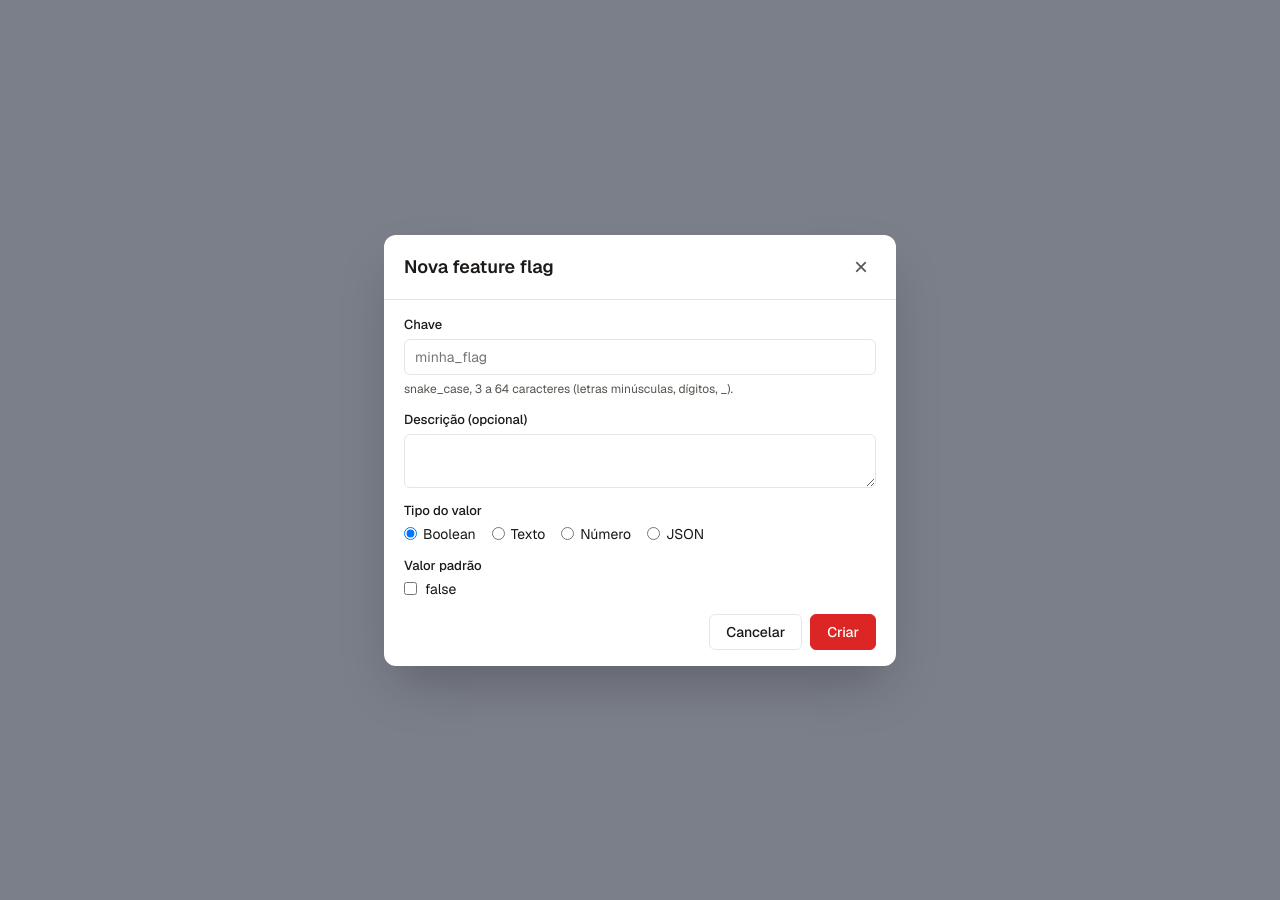
it: ModalCriarFlag (RF-ADM-FF-03) › valida formato snake_case da chave (mínimo 3 caracteres)
Type "ab" into the field labelled "Chave" at (640, 356), box 404,338 -> 876,374
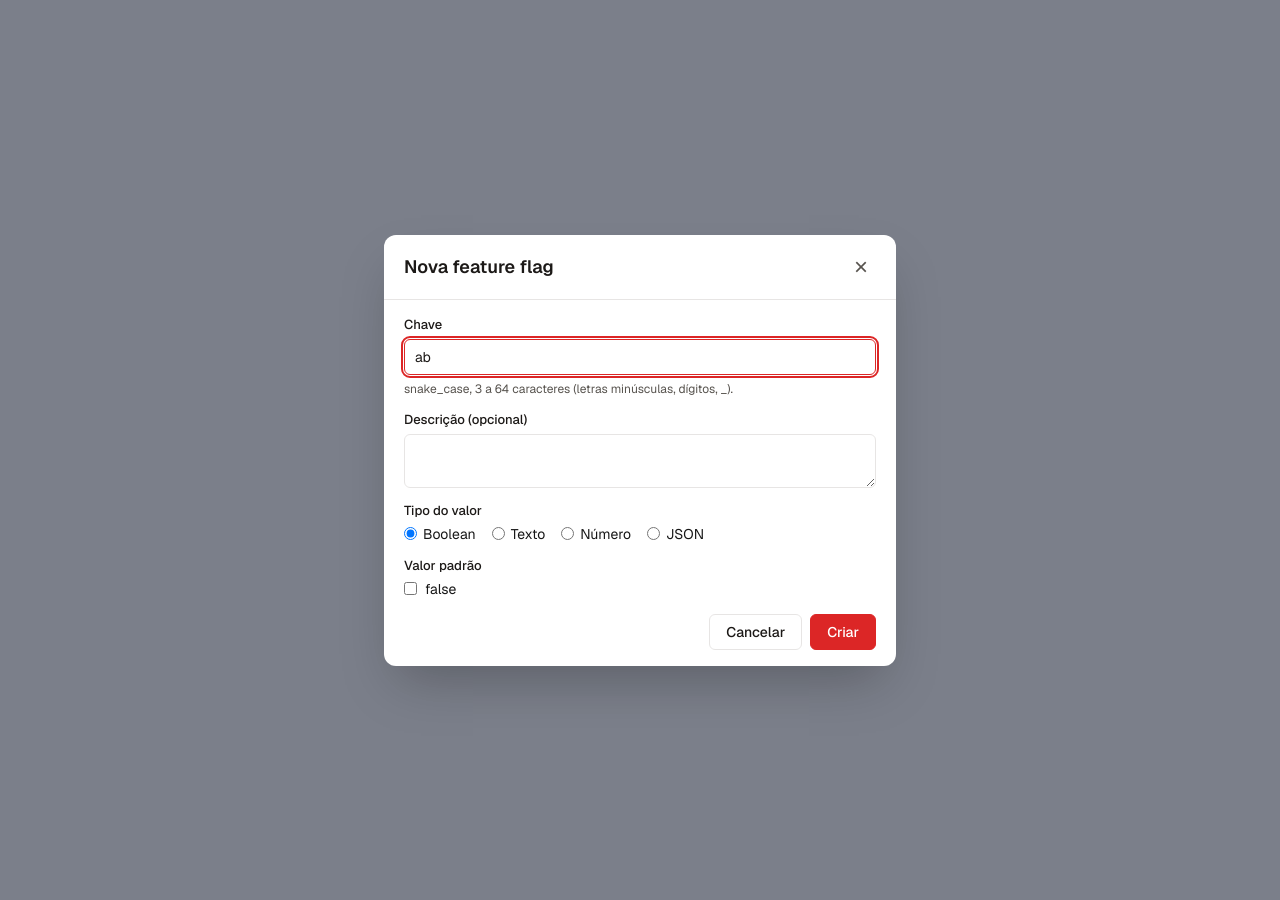
Click the button with test id "btn-criar-flag-submit" at (843, 632), box 810,614 -> 876,650
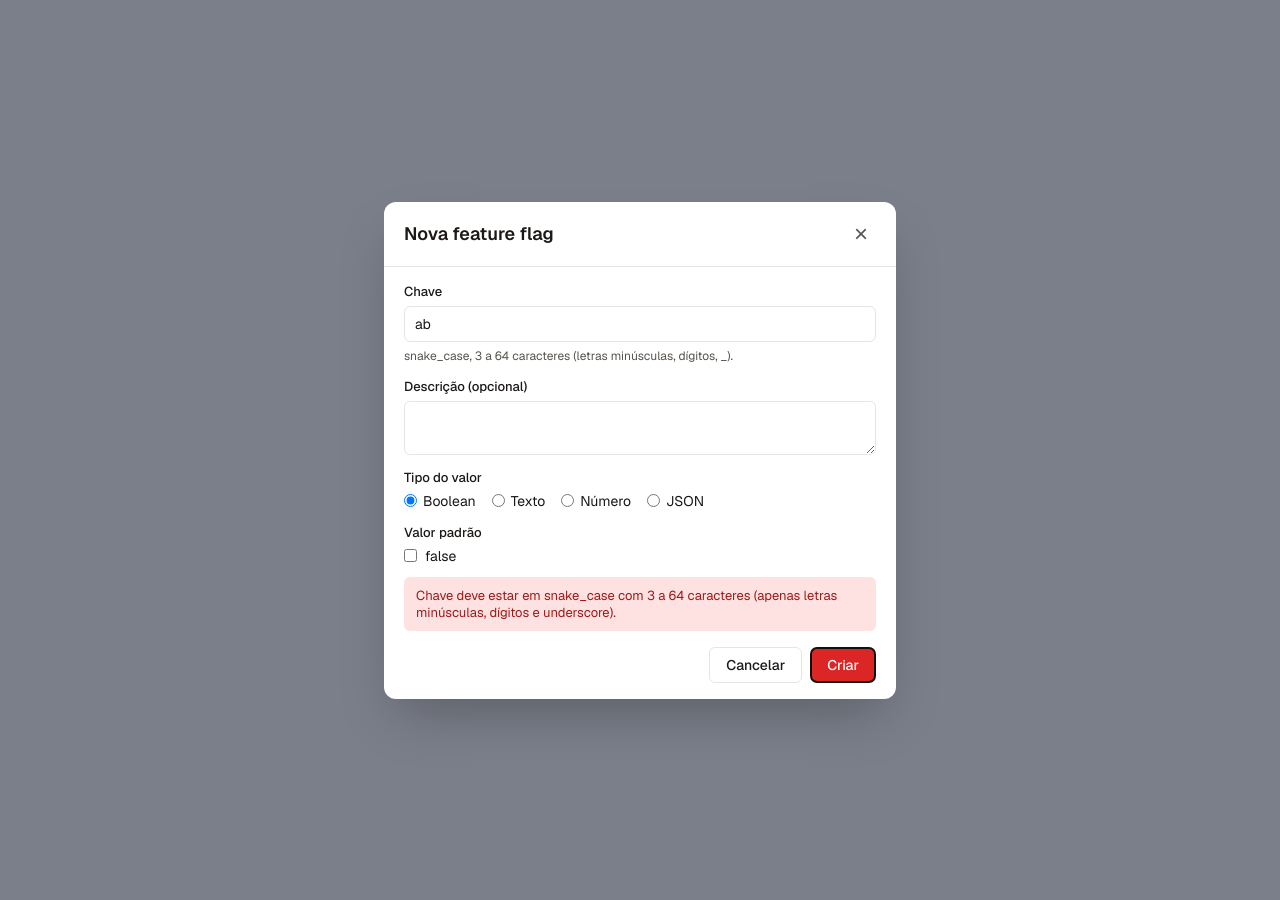
Check: the message with test id "form-error" shows "3 a 64 caracteres", box 416,586 -> 837,620
